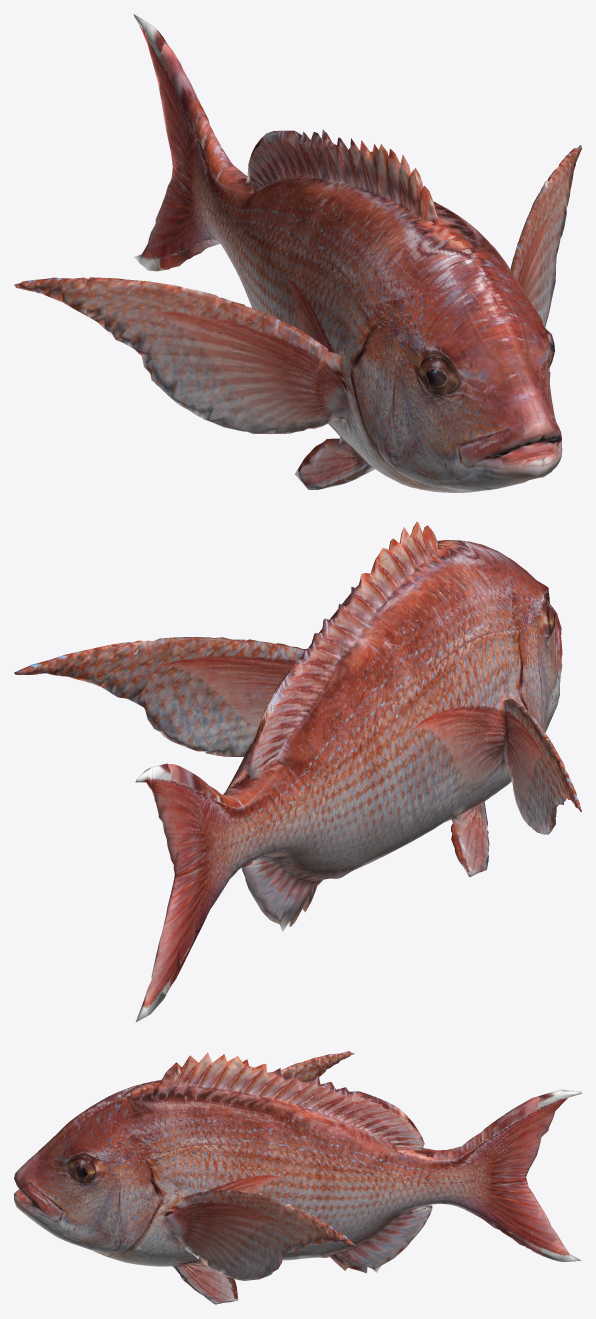
Rendered from fish_redbream.glb.
3 views of the same model, one above another, from view 1: azimuth 30°, elevation 25°; view 2: azimuth 150°, elevation 25°; view 3: azimuth 270°, elevation 25° (orthographic). The views are drawn at different scales.
Visible parts, largest first — view 1: geometry_0; view 2: geometry_0; view 3: geometry_0.
Part boxes in pixels (box(x1,y1,x2,y2)): geometry_0: box(14, 14, 581, 492); geometry_0: box(14, 521, 581, 1022); geometry_0: box(14, 1051, 581, 1304).
Size of the model in its own units: 1.57 by 0.8469 by 1.96.
1 material, 1 textured.
